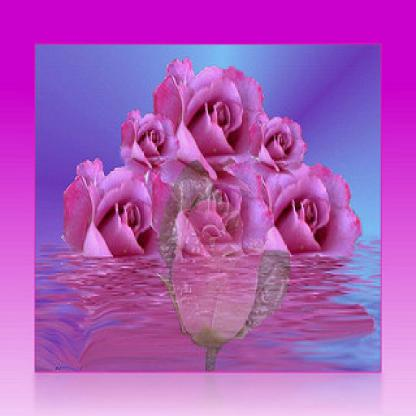ROSE-MAWAR: (48, 46, 370, 260)
